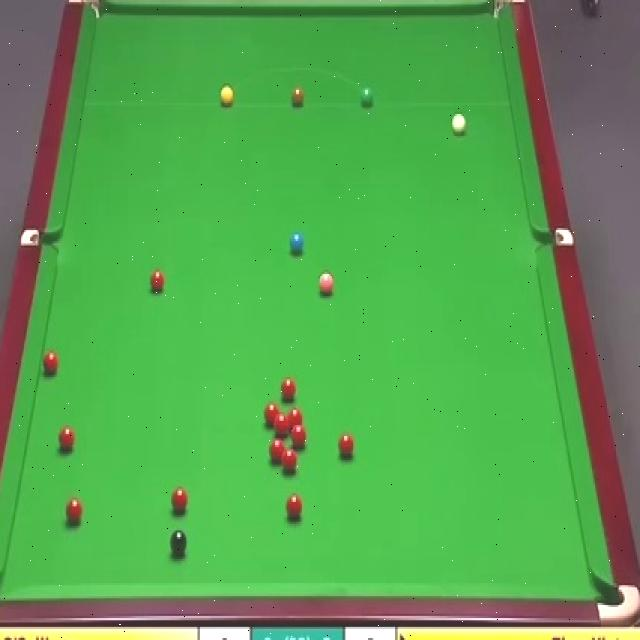black-ball: (170, 530, 188, 560)
blue-ball: (289, 230, 304, 256)
brown-ball: (291, 84, 304, 107)
green-ball: (359, 88, 374, 109)
pink-ball: (319, 271, 334, 295)
red-ball: (40, 350, 59, 380), (337, 432, 356, 462), (65, 496, 84, 526), (171, 486, 189, 513), (59, 423, 75, 452), (286, 492, 302, 521), (280, 376, 296, 404), (269, 437, 284, 464), (282, 450, 297, 475), (264, 401, 278, 427), (150, 268, 165, 292), (291, 425, 306, 448), (288, 409, 302, 431), (274, 413, 288, 434)
white-ball: (450, 108, 467, 137)
yellow-ball: (220, 86, 233, 108)
